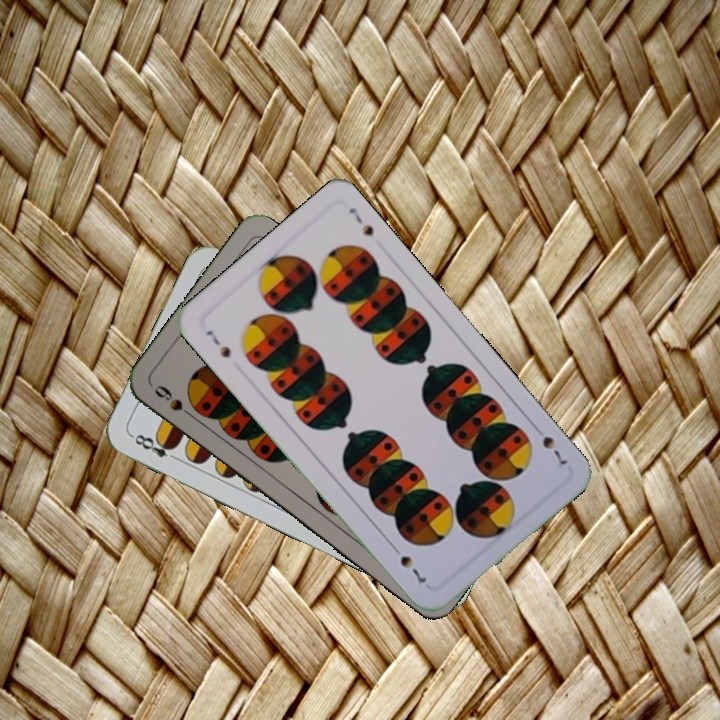E8: (127, 430, 182, 464)
S7: (529, 420, 572, 471), (202, 326, 233, 361)
S9: (150, 380, 200, 423)
